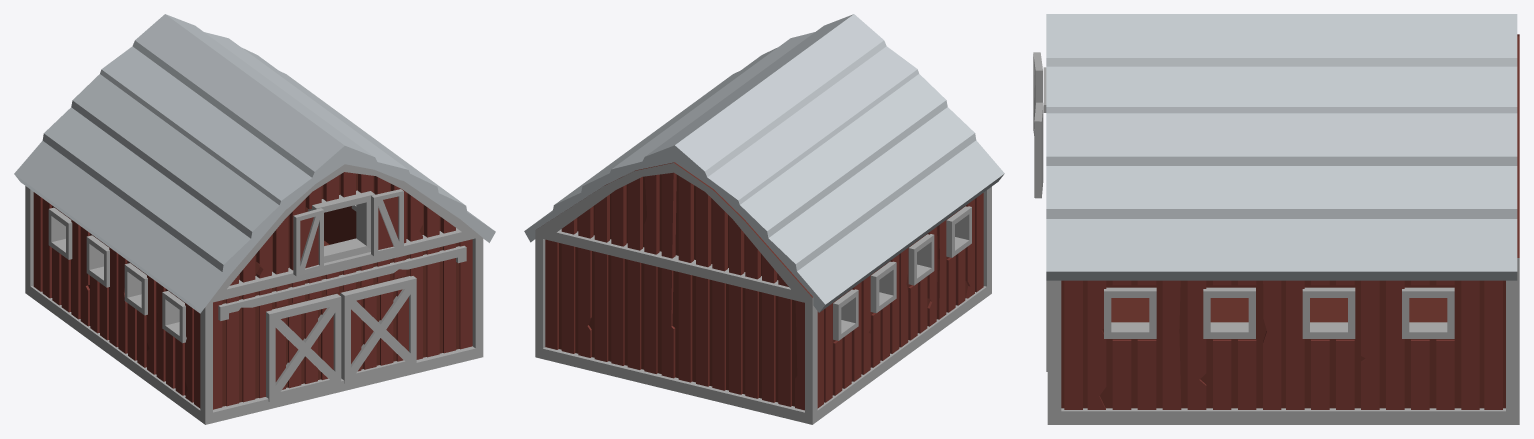
Rendered from barn-snow.glb.
The picture shows the model from 3 angles, left to right: view 1: azimuth 30°, elevation 25°; view 2: azimuth 150°, elevation 25°; view 3: azimuth 270°, elevation 25°; orthographic projection. The views are drawn at different scales.
Visible parts, largest first — view 1: Barn_Cube.005; view 2: Barn_Cube.005; view 3: Barn_Cube.005.
Part boxes in pixels (<box>): Barn_Cube.005: <box>14,14,495,424</box>; Barn_Cube.005: <box>524,14,1004,424</box>; Barn_Cube.005: <box>1033,14,1519,424</box>.
Size of the model in its own units: 7.73 by 6.01 by 8.22.
